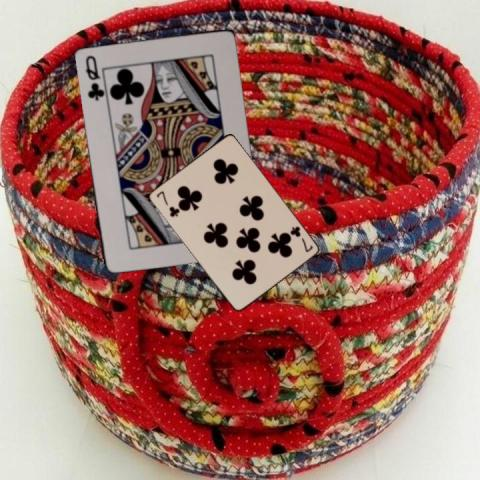7c: (153, 188, 180, 219), (287, 224, 314, 253)
Qc: (82, 52, 105, 102)
